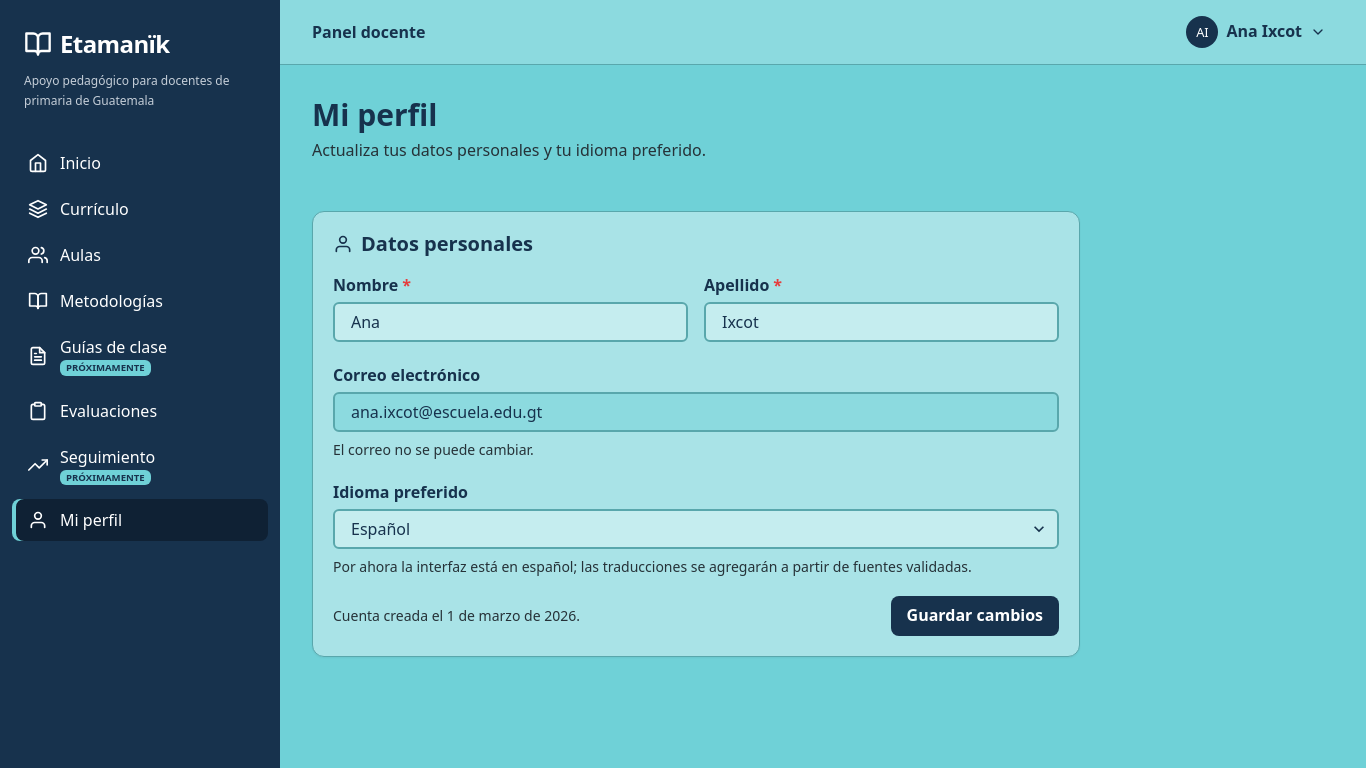
Test: Perfil del docente › muestra en el campo los errores de validación del backend
This screenshot has width=1366, height=768.
In the field labelled "Nombre*": (510, 322) [333,302,688,342], type " María"
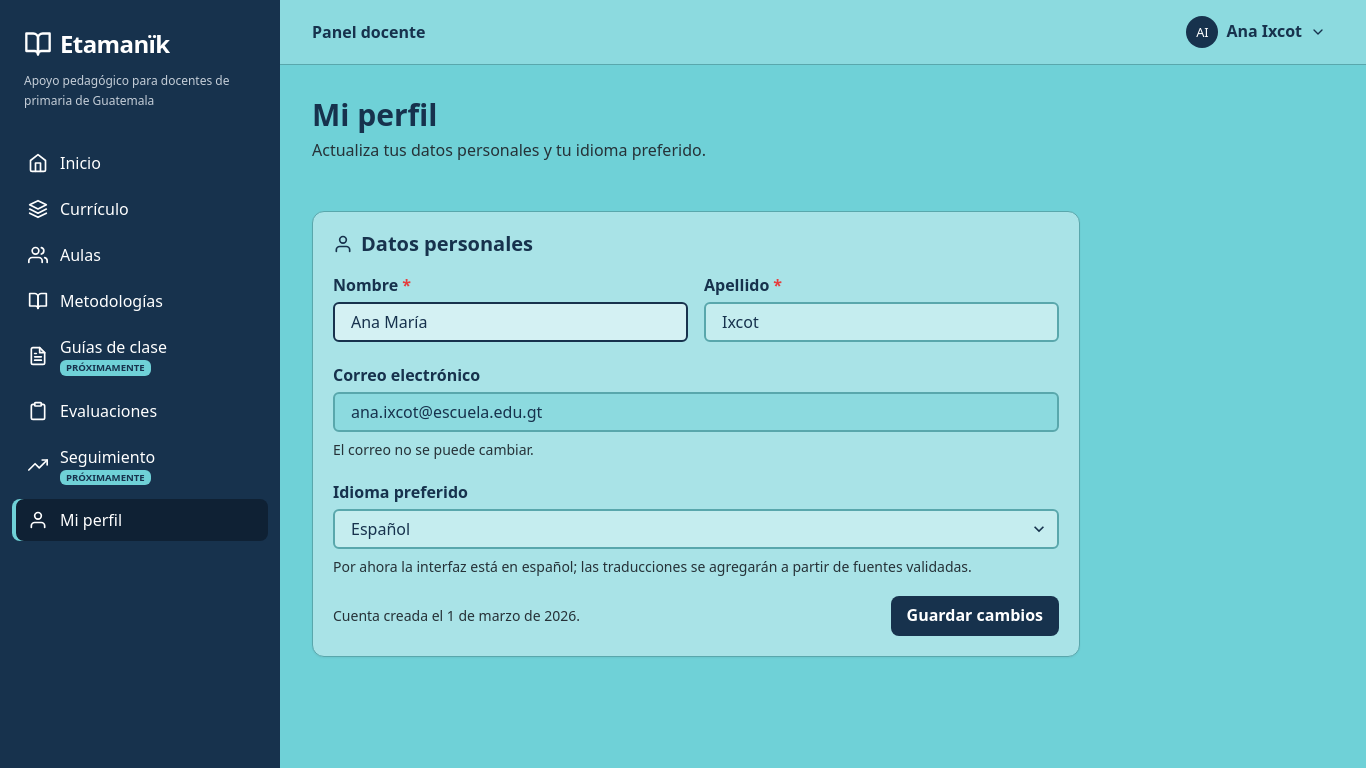
Click the button "Guardar cambios": click(975, 616) [891,596,1059,636]
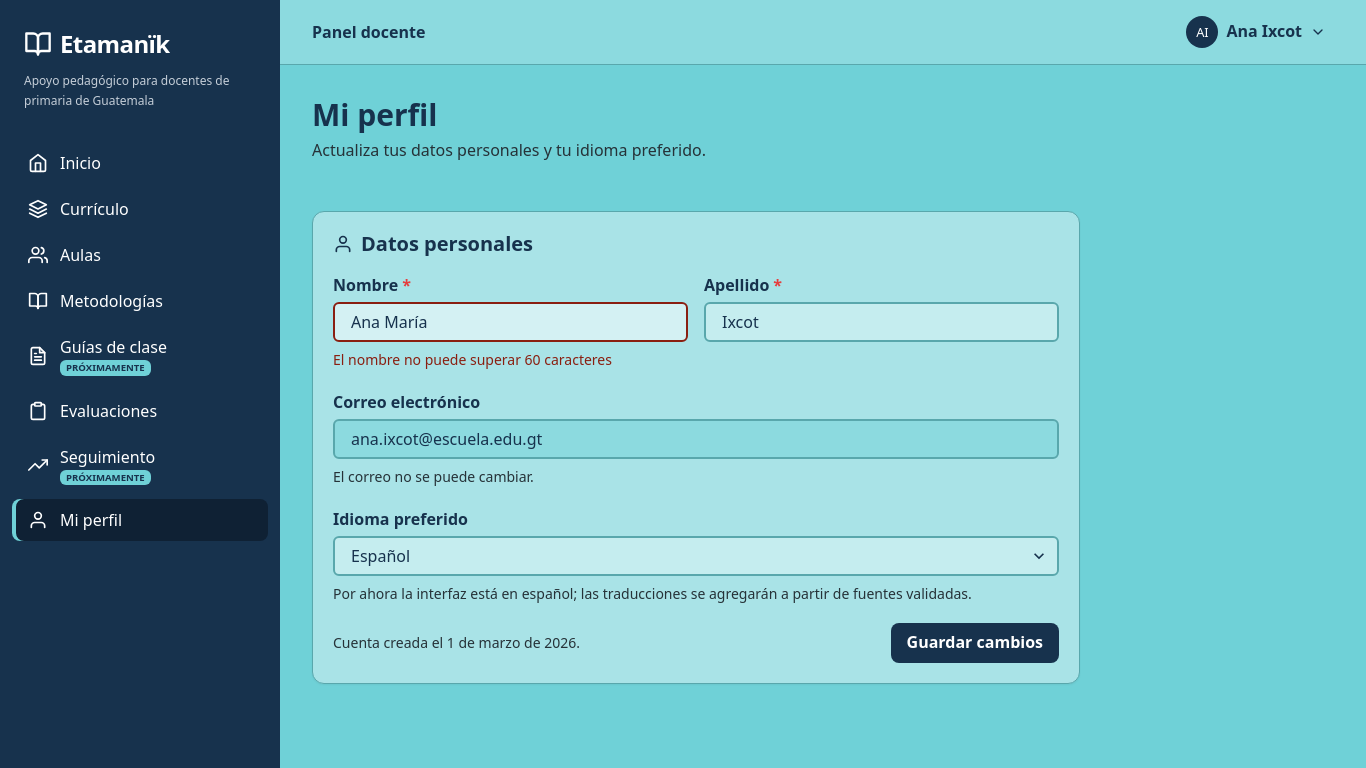
Expected: the text "El nombre no puede superar 60 caracteres" is shown, [333,350,612,369]
